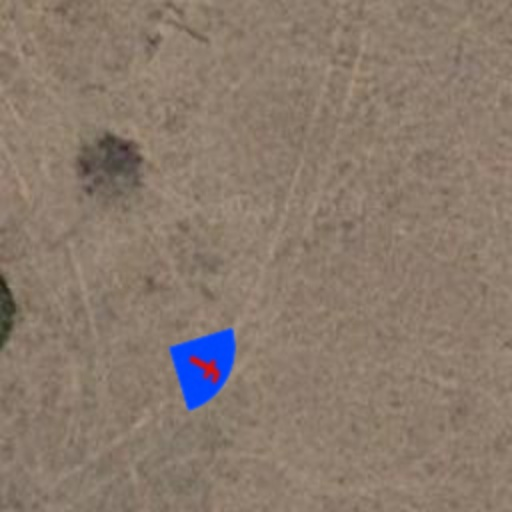quarter_circle: (142, 304, 266, 428)
